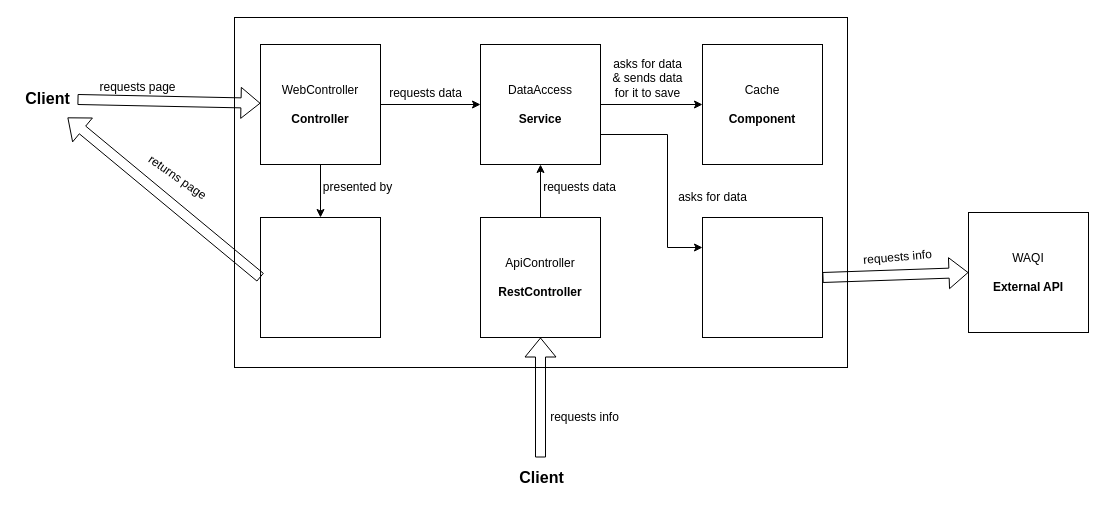
This 1106x505 diagram has some shape labels left out. Here are the shapes that lost their labels. From the top down, the centre of each, then its label:
the point at 320,277: Presentation Thymeleaf
the point at 762,277: CallExterior Component
